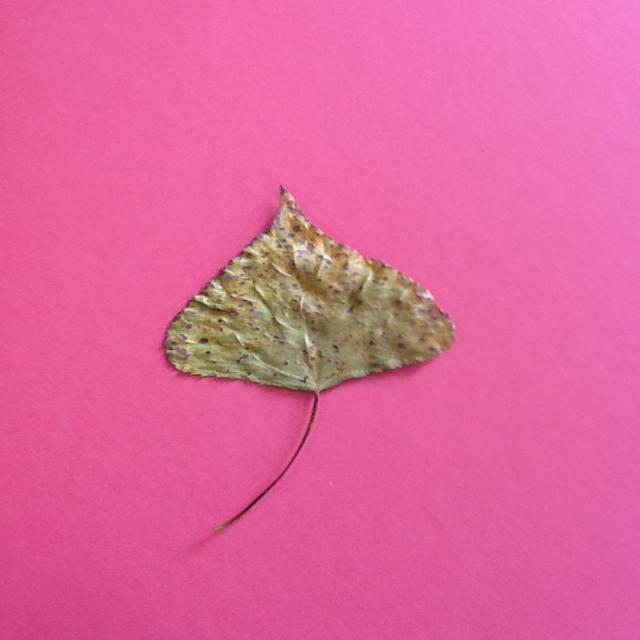foliage: (165, 183, 466, 562)
